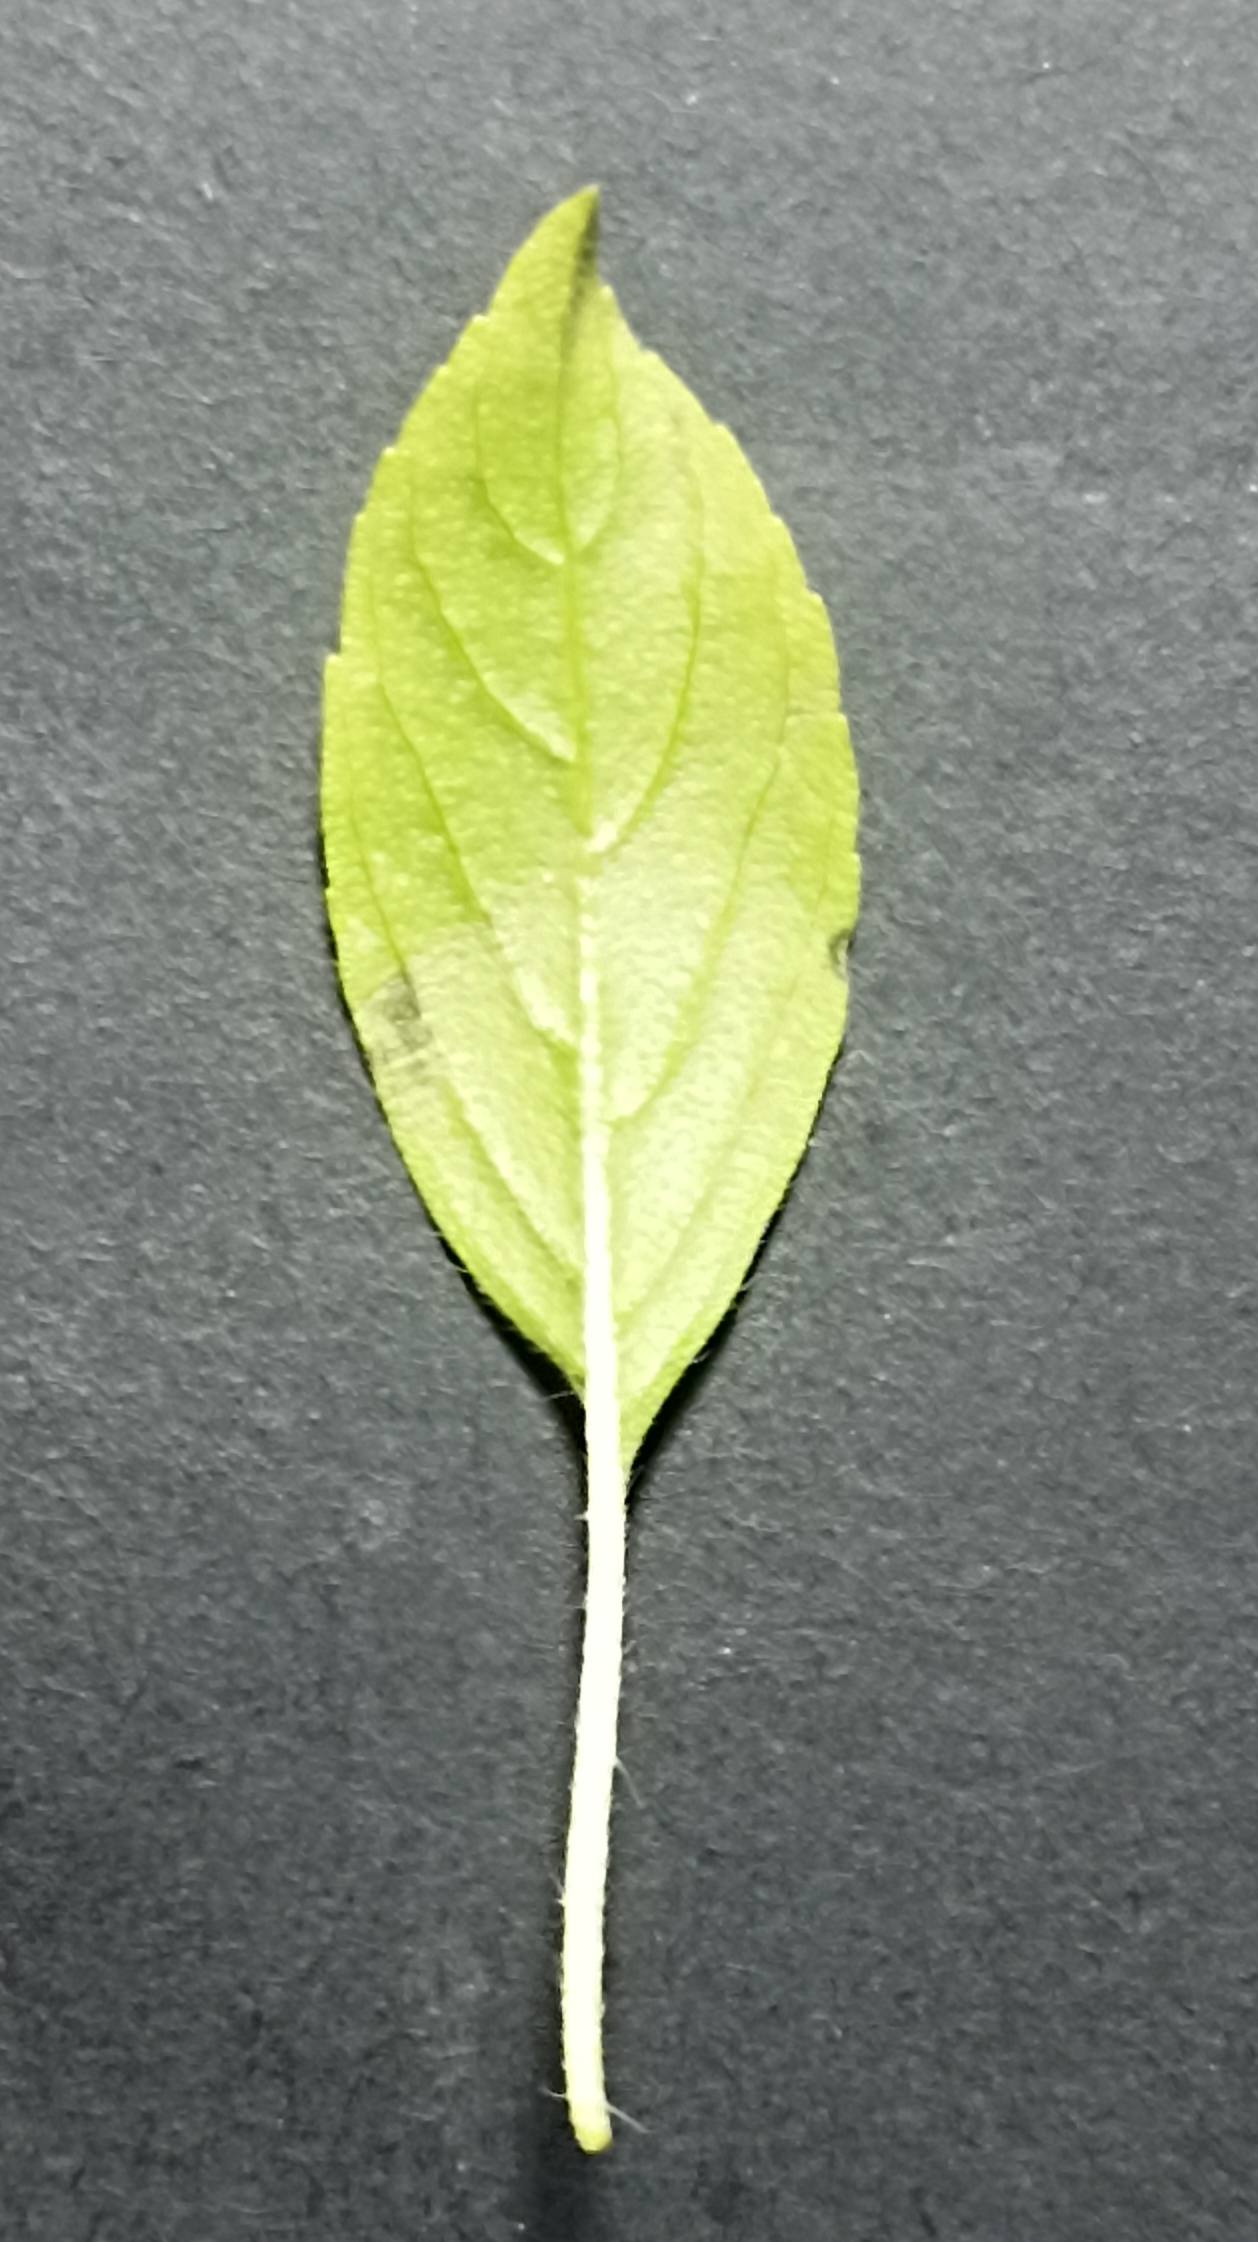Healthy: (300, 165, 884, 1461)
